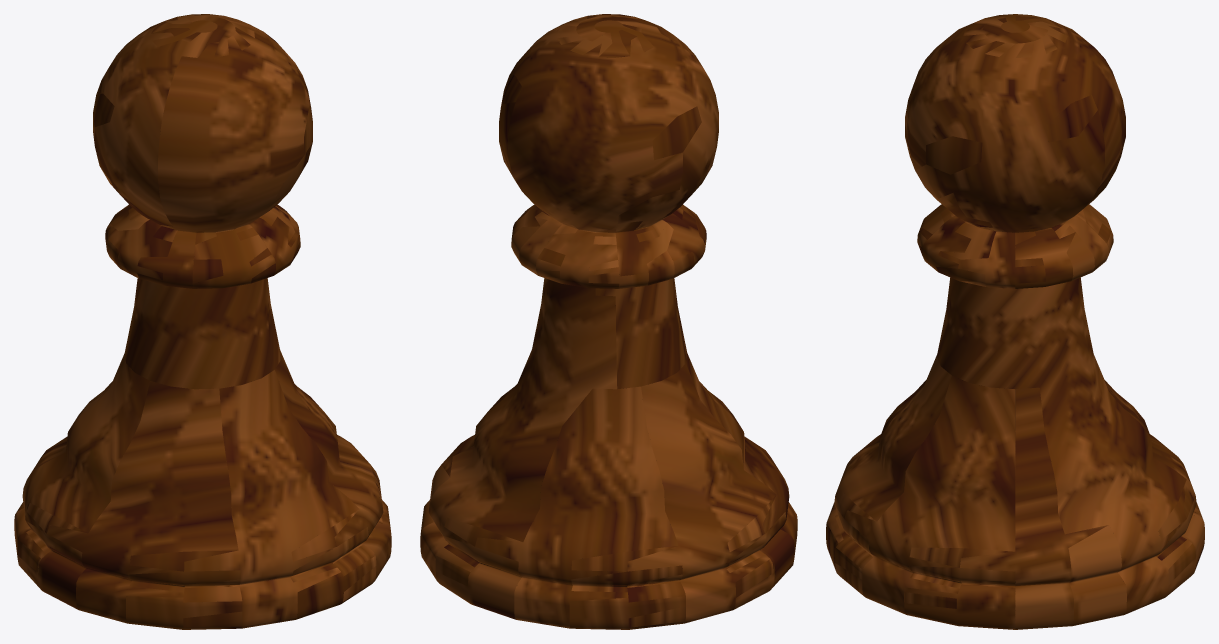
File: peonNegro.obj
3 renders of one model, left to right at view 1: azimuth 30°, elevation 25°; view 2: azimuth 150°, elevation 25°; view 3: azimuth 270°, elevation 25°, orthographic.
Parts seen in each view (by area): view 1: body; view 2: body; view 3: body.
Part boxes in pixels (x1,y1,x2,y2): body: [14, 14, 391, 629]; body: [420, 14, 797, 629]; body: [826, 14, 1204, 629].
Size of the model in its own units: 1.36 by 2.1 by 1.36.
1 material, 1 textured.
